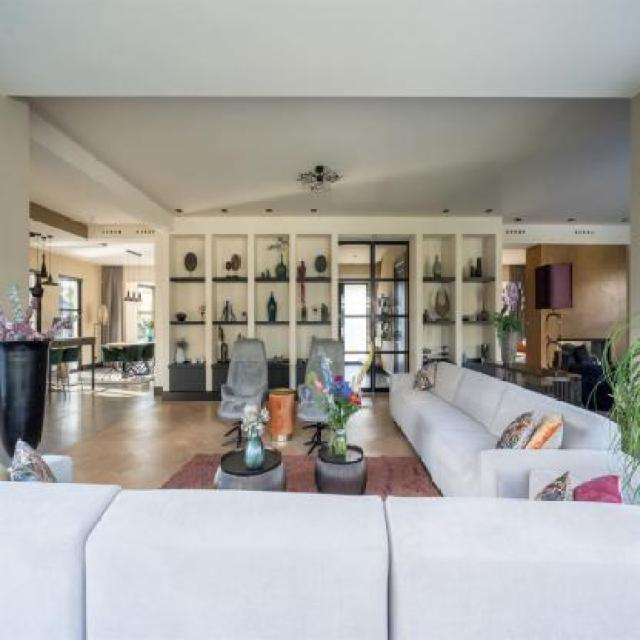floor: (28, 389, 248, 488)
